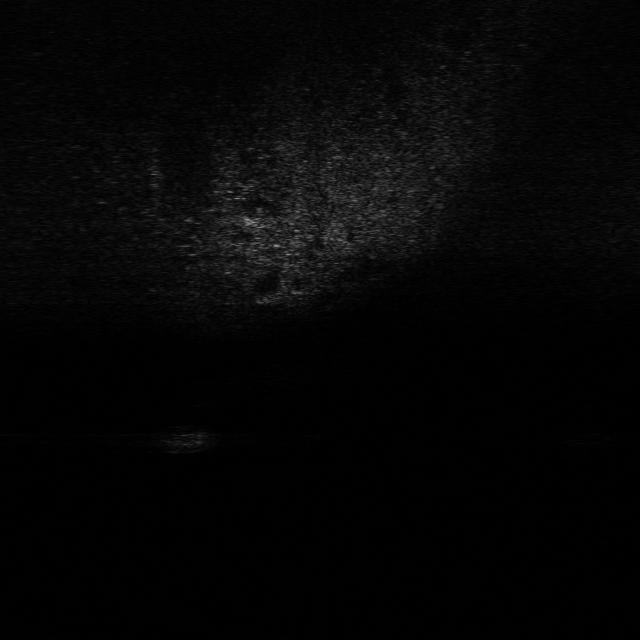circle cage: (154, 421, 220, 459)
